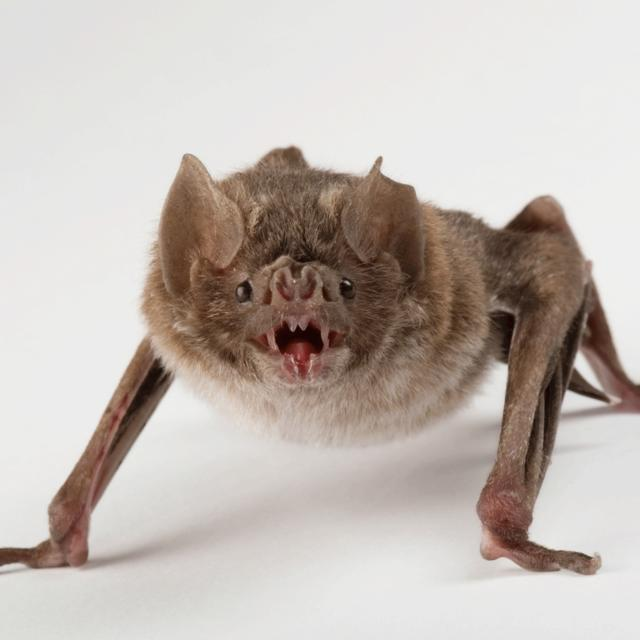Bat: (0, 135, 640, 580)
